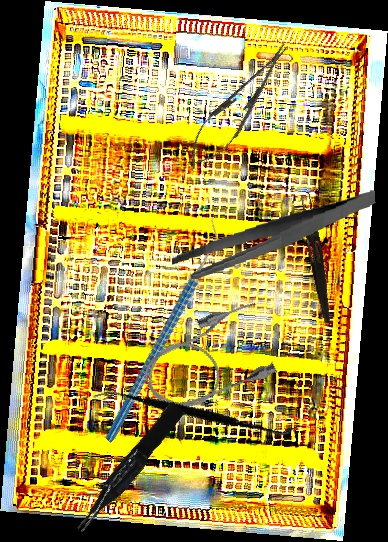Cannula: (132, 295, 285, 423)
Chopper: (45, 216, 278, 444)
Dressing Forceps: (167, 190, 381, 281), (295, 192, 338, 325)
Needle Holder: (176, 33, 302, 179)
Spatula Surgical: (91, 329, 301, 493)
Tissue Forceps: (66, 400, 191, 536)
